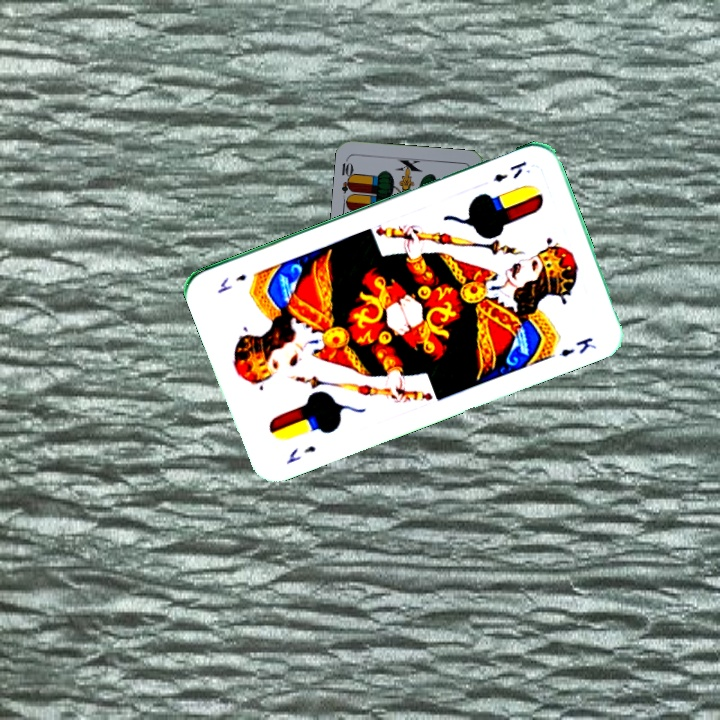E10: (338, 155, 357, 195)
EK: (489, 157, 529, 185), (282, 441, 319, 466)
